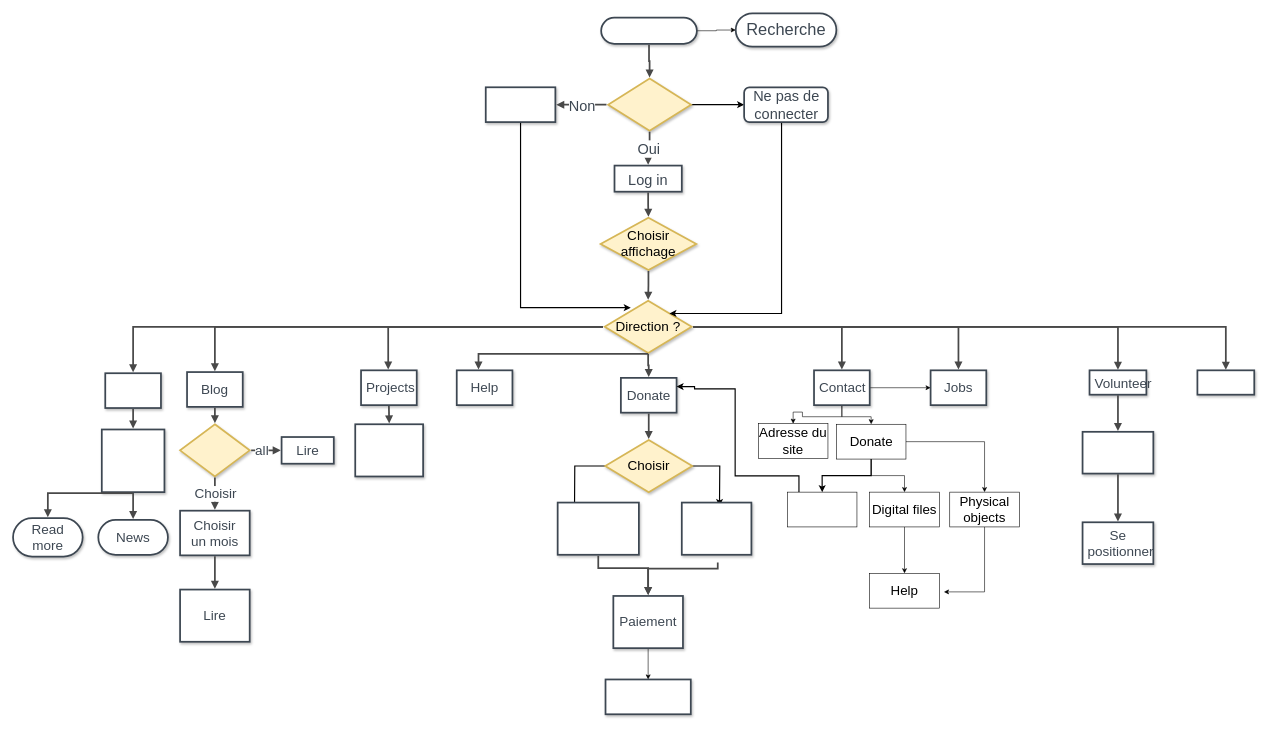
Some shapes in this 1268 by 729 pixel diagram are drawn without their labels. Here are the shapes that lost their labels. From the top down, the centre of each, then its label:
At [649,31]: "Archive.org".
At [520,105]: "Sign up".
At [650,105]: "Membre ?".
At [133,391]: "About".
At [1226,383]: "People".
At [133,461]: "The internet archve".
At [215,451]: "When ?".
At [389,451]: "Différents projets".
At [1118,453]: "Trouver une offre".
At [598,529]: "Fréquence €".
At [716,529]: "Quantité €".
At [822,509]: "Money".
At [648,697]: "Entrer ses informations".
